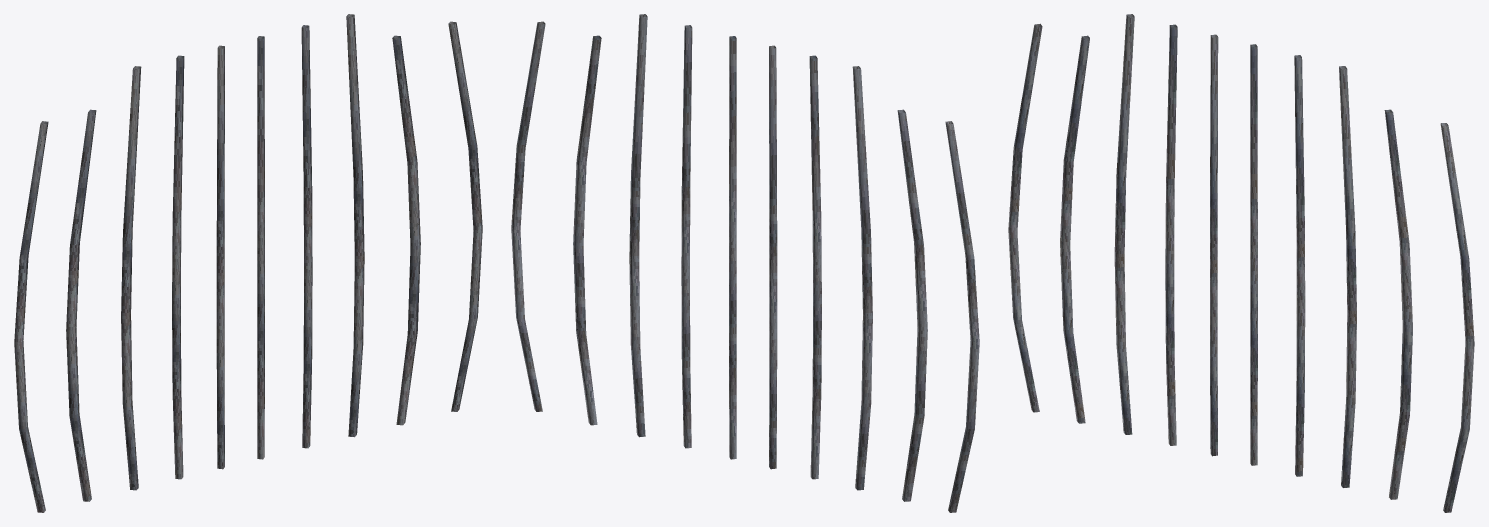
The model's file is EKH_BARRELROOM_ANIM_JA1_GATE_BARS__AI.fbx.
The picture shows the model from 3 angles, left to right: view 1: azimuth 30°, elevation 25°; view 2: azimuth 150°, elevation 25°; view 3: azimuth 330°, elevation 25°; orthographic projection.
Parts seen in each view (by area): view 1: EKH_BARRELROOM_ANIM_JA1_GATE_BARS__AI; view 2: EKH_BARRELROOM_ANIM_JA1_GATE_BARS__AI; view 3: EKH_BARRELROOM_ANIM_JA1_GATE_BARS__AI.
Part boxes in pixels (bbox=[...]): EKH_BARRELROOM_ANIM_JA1_GATE_BARS__AI: bbox=[14, 14, 482, 512]; EKH_BARRELROOM_ANIM_JA1_GATE_BARS__AI: bbox=[511, 14, 979, 512]; EKH_BARRELROOM_ANIM_JA1_GATE_BARS__AI: bbox=[1008, 14, 1474, 512].
Bounding box in the file's own units: 37732 × 32376 × 600.
Materials: 1 (1 with a texture image).
